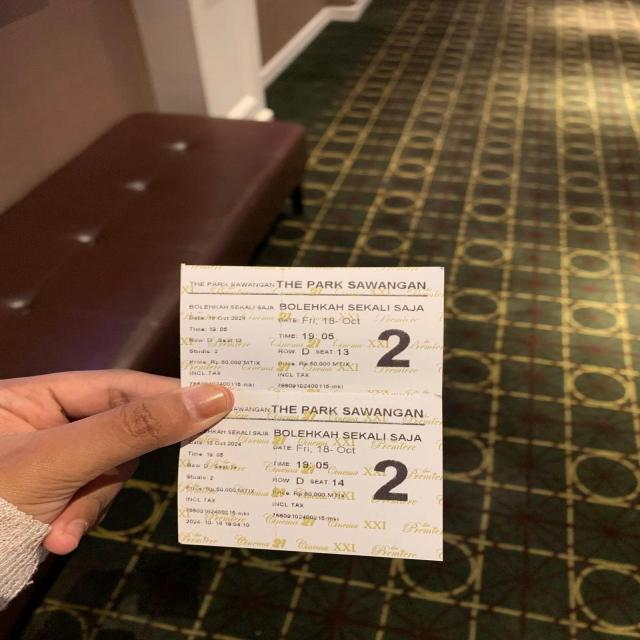date: (184, 313, 260, 323)
store: (268, 273, 442, 292)
total: (274, 356, 364, 370)
